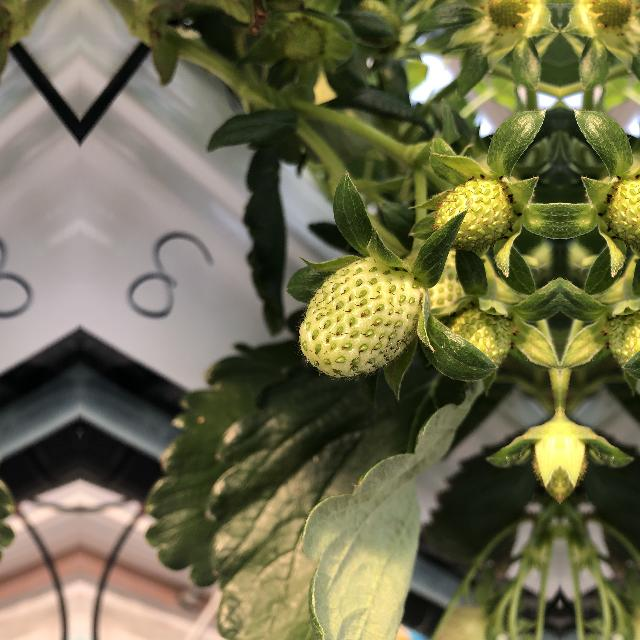Health_25: (288, 246, 434, 380)
